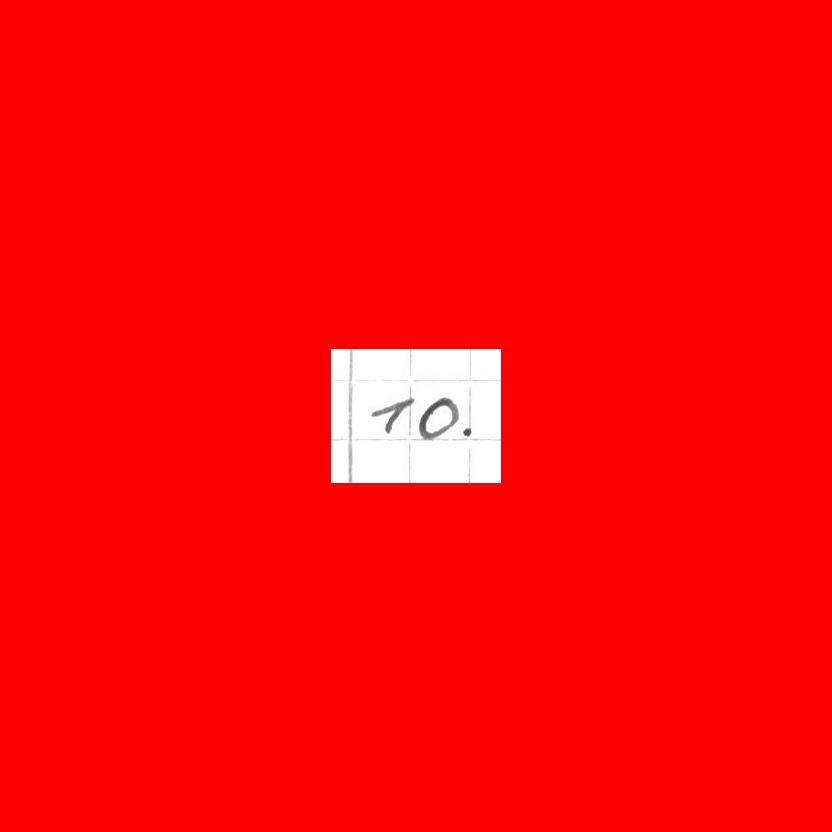Char: (368, 392, 417, 439), (418, 395, 460, 441), (460, 423, 473, 439)
